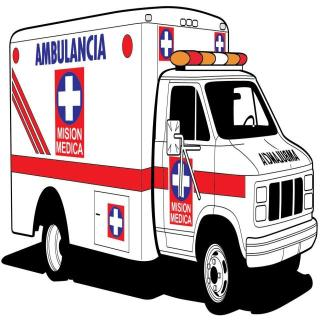Ambulance: (1, 2, 320, 301)
